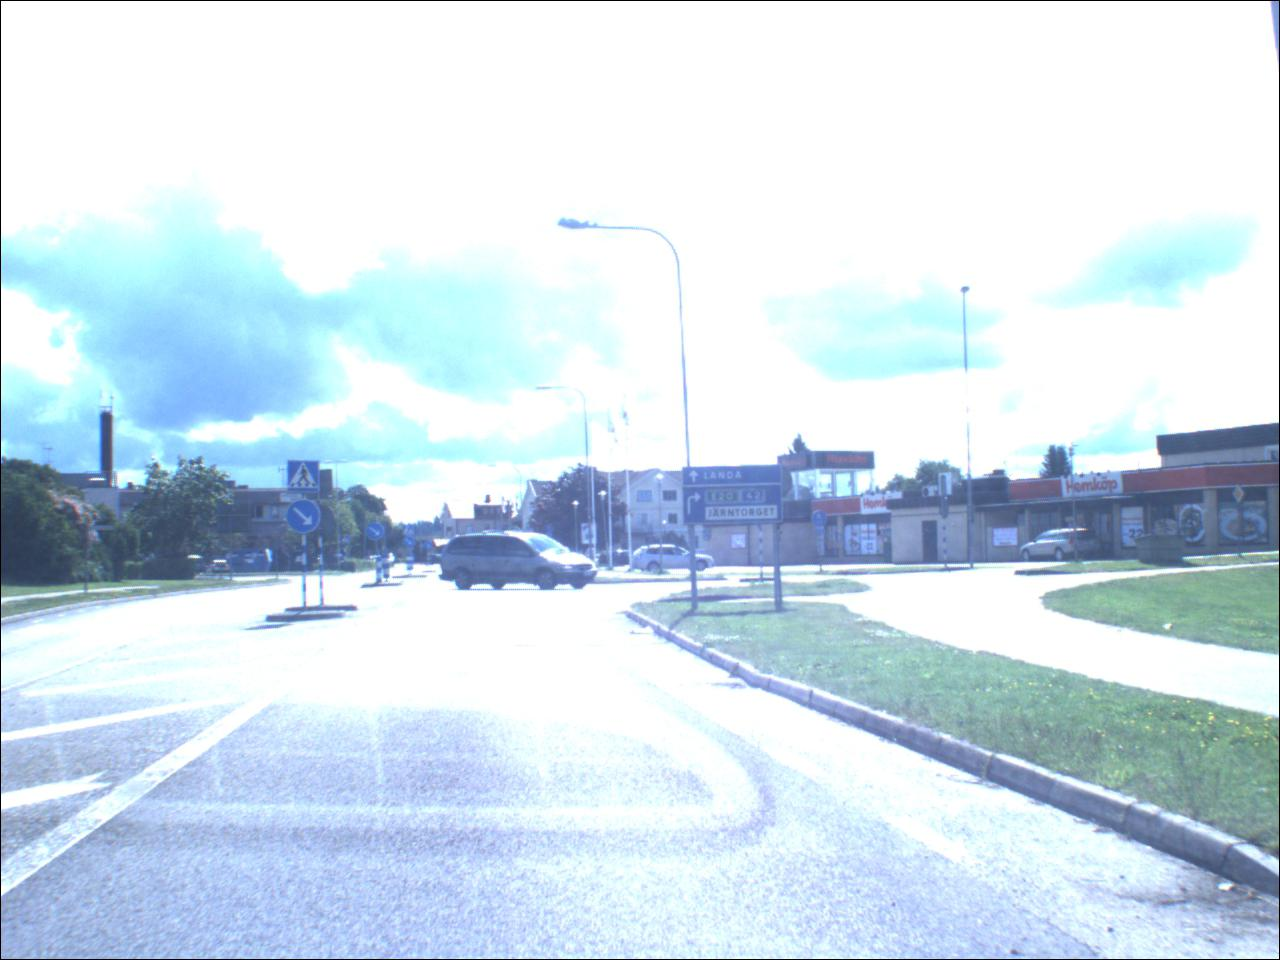PASS_RIGHT_SIDE: (289, 502, 324, 537), (367, 524, 387, 543), (405, 538, 418, 550), (426, 542, 435, 552)
PEDESTRIAN_CROSSING: (291, 463, 322, 496), (405, 526, 418, 538), (343, 537, 352, 546)
